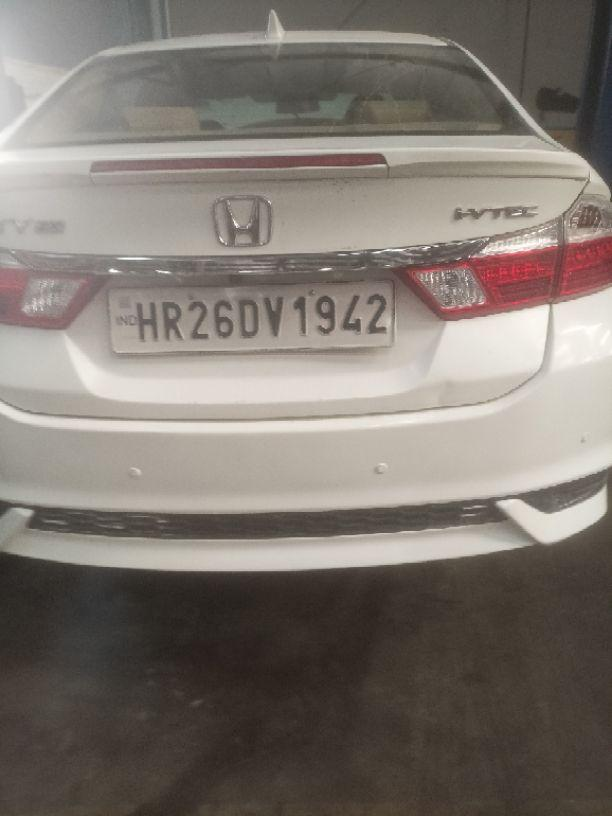license_plate: (105, 276, 396, 355)
